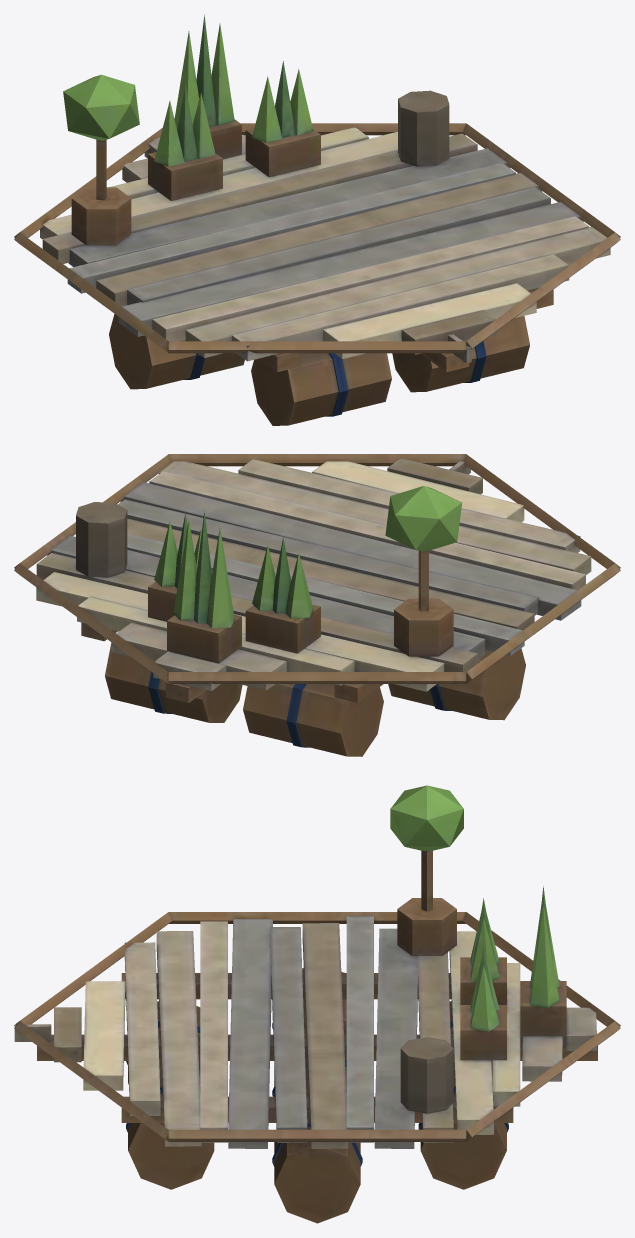
File: raft-d-age1.glb
The picture shows the model from 3 angles, top to bottom: view 1: azimuth 30°, elevation 25°; view 2: azimuth 150°, elevation 25°; view 3: azimuth 270°, elevation 25°; orthographic projection.
Parts seen in each view (by area): view 1: raft-d-age1; view 2: raft-d-age1; view 3: raft-d-age1.
Boxes of the visible parts, x1,y1,x2,y2 form: raft-d-age1: (14,14,620,425); raft-d-age1: (14,454,620,756); raft-d-age1: (14,785,620,1223).
Bounding box in the file's own units: 1.59 × 0.8965 × 1.83.
1 material, 1 textured.
